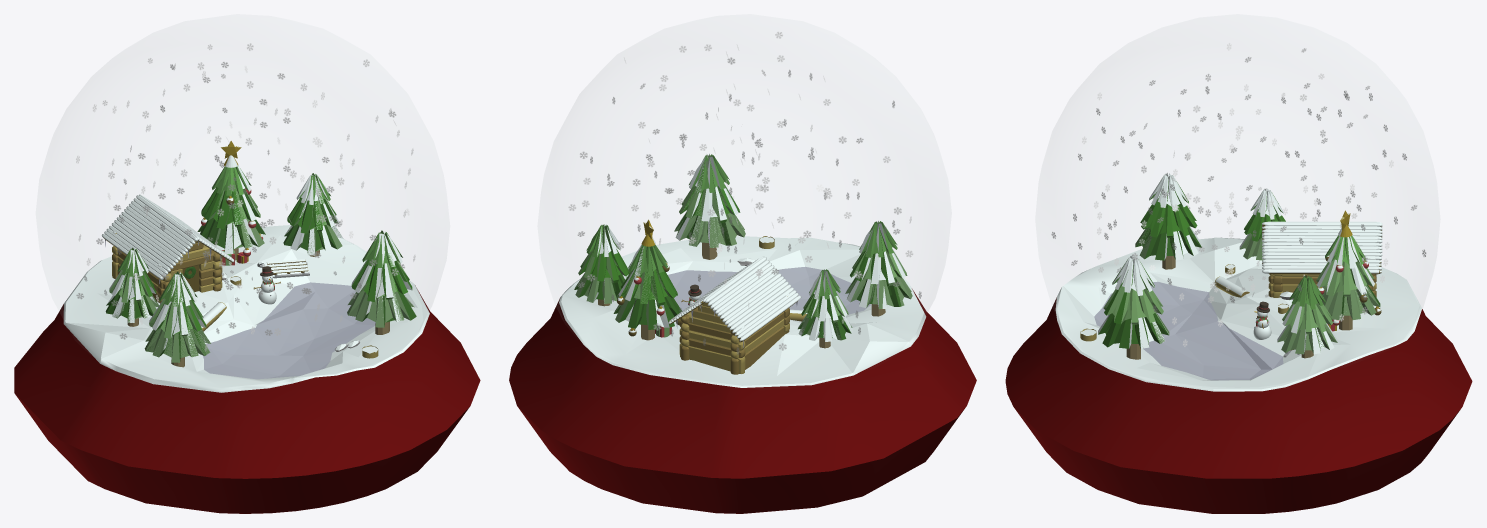
The model's file is animated_snowglobe.glb.
3 renders of one model, left to right at view 1: azimuth 30°, elevation 25°; view 2: azimuth 150°, elevation 25°; view 3: azimuth 270°, elevation 25°, orthographic.
Parts seen in each view (by area): view 1: pCube146; view 2: pCube146; view 3: pCube146.
Boxes of the visible parts, x1,y1,x2,y2 form: pCube146: (14, 43, 480, 513); pCube146: (509, 31, 976, 513); pCube146: (1005, 42, 1472, 513).
Bounding box in the file's own units: 55.29 × 52.27 × 56.01.
25 materials, 1 textured.
